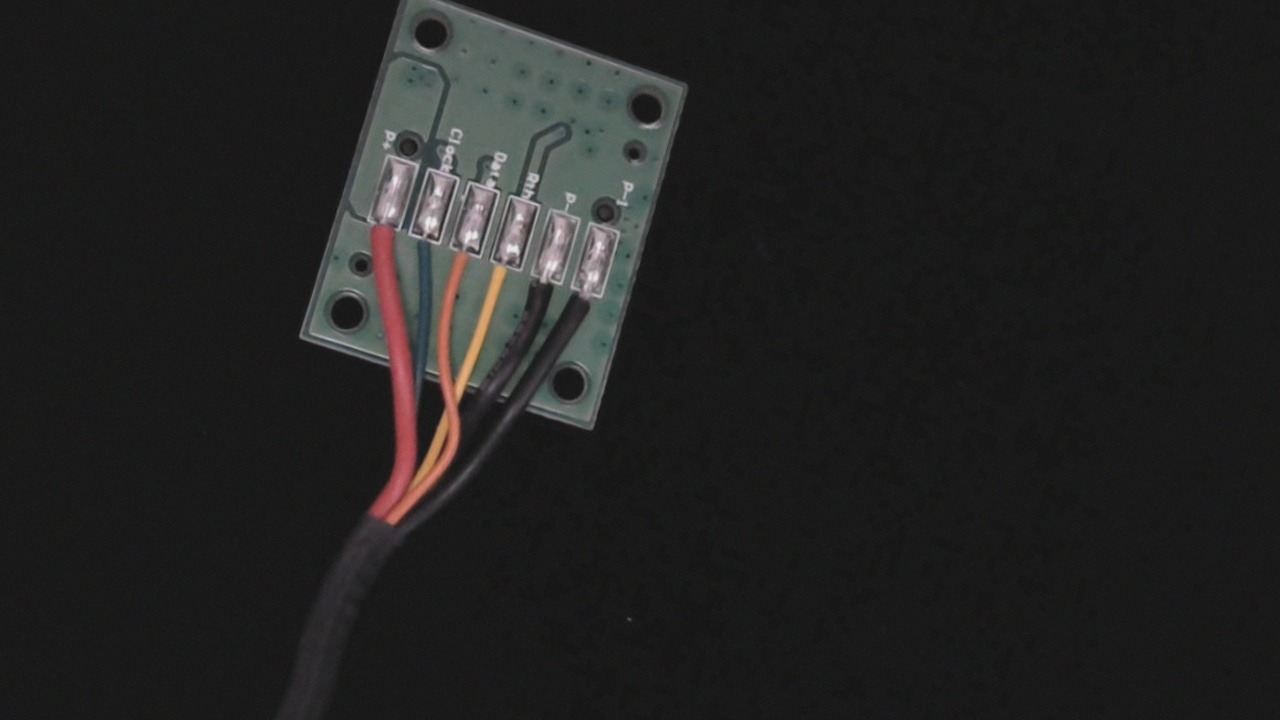Black: (513, 256, 566, 333)
Black1: (554, 268, 612, 350)
Green: (395, 216, 448, 286)
Orange: (432, 229, 489, 308)
Red: (348, 202, 408, 289)
Yellow: (471, 243, 528, 322)
